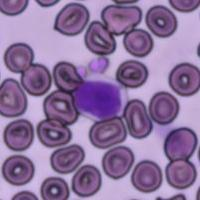L: (72, 78, 129, 123)
